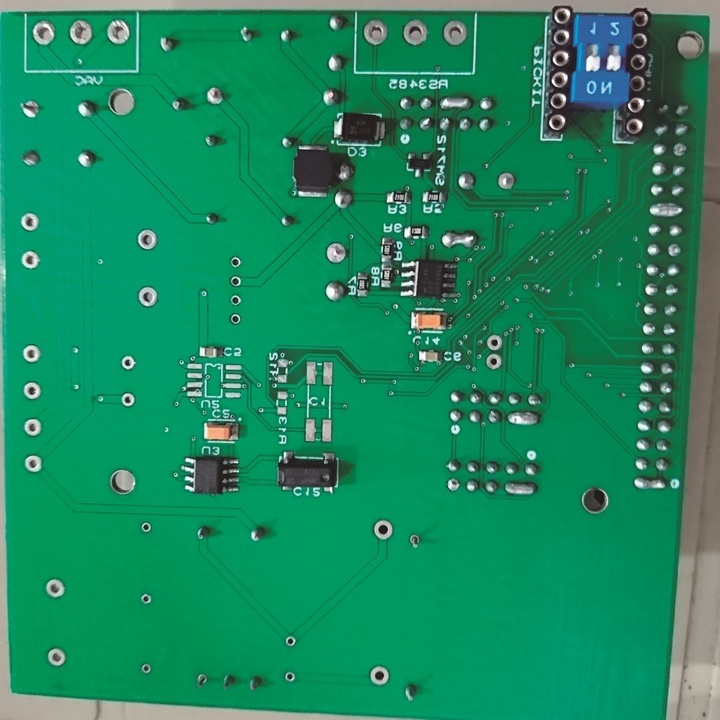F: (402, 20, 429, 49), (104, 16, 130, 46), (30, 18, 57, 46), (441, 18, 466, 46), (67, 20, 93, 46), (323, 240, 347, 266), (370, 515, 393, 542), (367, 661, 390, 687), (364, 21, 387, 47), (136, 228, 159, 253), (23, 343, 44, 369), (136, 286, 160, 308), (202, 86, 227, 106), (44, 578, 66, 600), (46, 646, 67, 669), (23, 452, 44, 475), (21, 417, 44, 438), (19, 100, 42, 120), (19, 213, 43, 232), (21, 380, 42, 400), (496, 169, 516, 190), (485, 332, 505, 352), (21, 249, 42, 268), (484, 351, 504, 370), (640, 320, 657, 340), (406, 530, 421, 551), (118, 355, 136, 372), (120, 391, 136, 409), (667, 242, 684, 258), (644, 281, 659, 299), (229, 292, 244, 309), (447, 476, 461, 494), (671, 140, 686, 156), (196, 672, 209, 689), (284, 635, 299, 649), (228, 311, 242, 326), (140, 592, 153, 608), (284, 669, 296, 686), (229, 255, 241, 271), (229, 275, 243, 288), (139, 520, 151, 535), (140, 663, 153, 676)
P: (633, 473, 672, 497), (439, 229, 479, 252), (647, 200, 684, 220), (502, 480, 539, 500), (507, 410, 541, 431), (438, 95, 473, 112)
